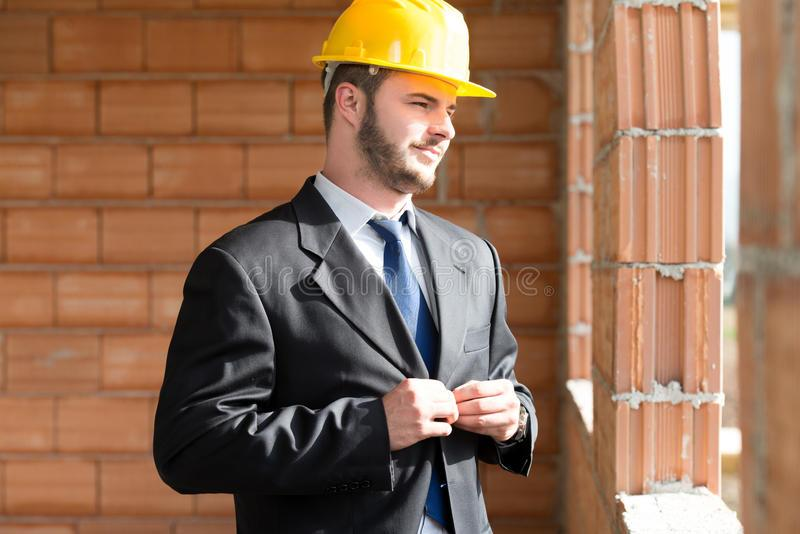helmet: (310, 1, 499, 101)
